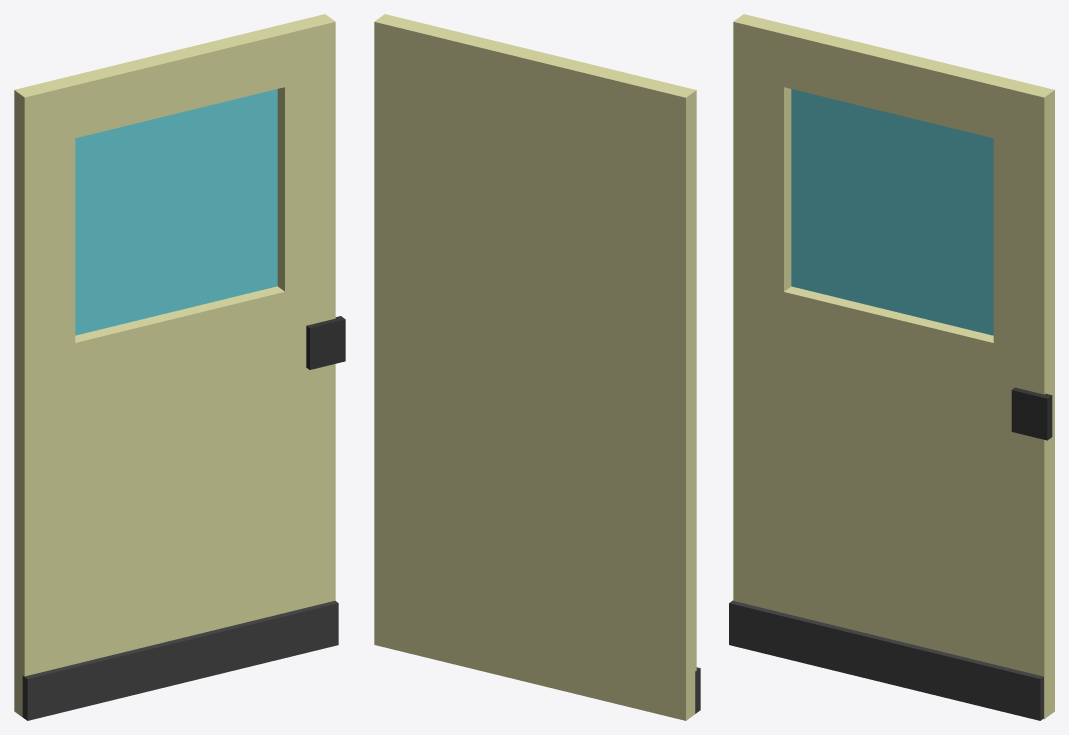
File: doorLeft.fbx
3 renders of one model, left to right at view 1: azimuth 30°, elevation 25°; view 2: azimuth 150°, elevation 25°; view 3: azimuth 330°, elevation 25°, orthographic.
Visible parts, largest first — view 1: Cube.010; view 2: Cube.010; view 3: Cube.010.
Part boxes in pixels (bbox=[...]): Cube.010: bbox=[14, 14, 345, 720]; Cube.010: bbox=[374, 14, 700, 720]; Cube.010: bbox=[729, 14, 1054, 720].
Size of the model in its own units: 575 by 1073 by 43.9.
